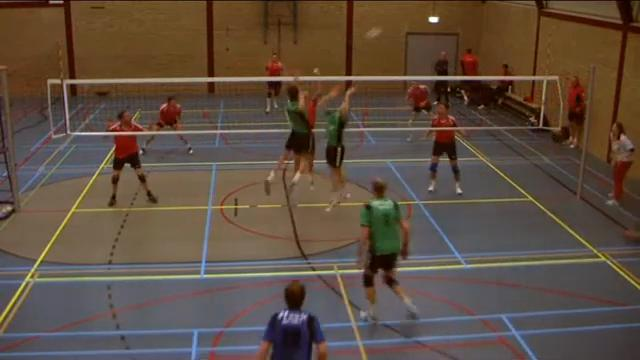alzata: (315, 77, 359, 219)
